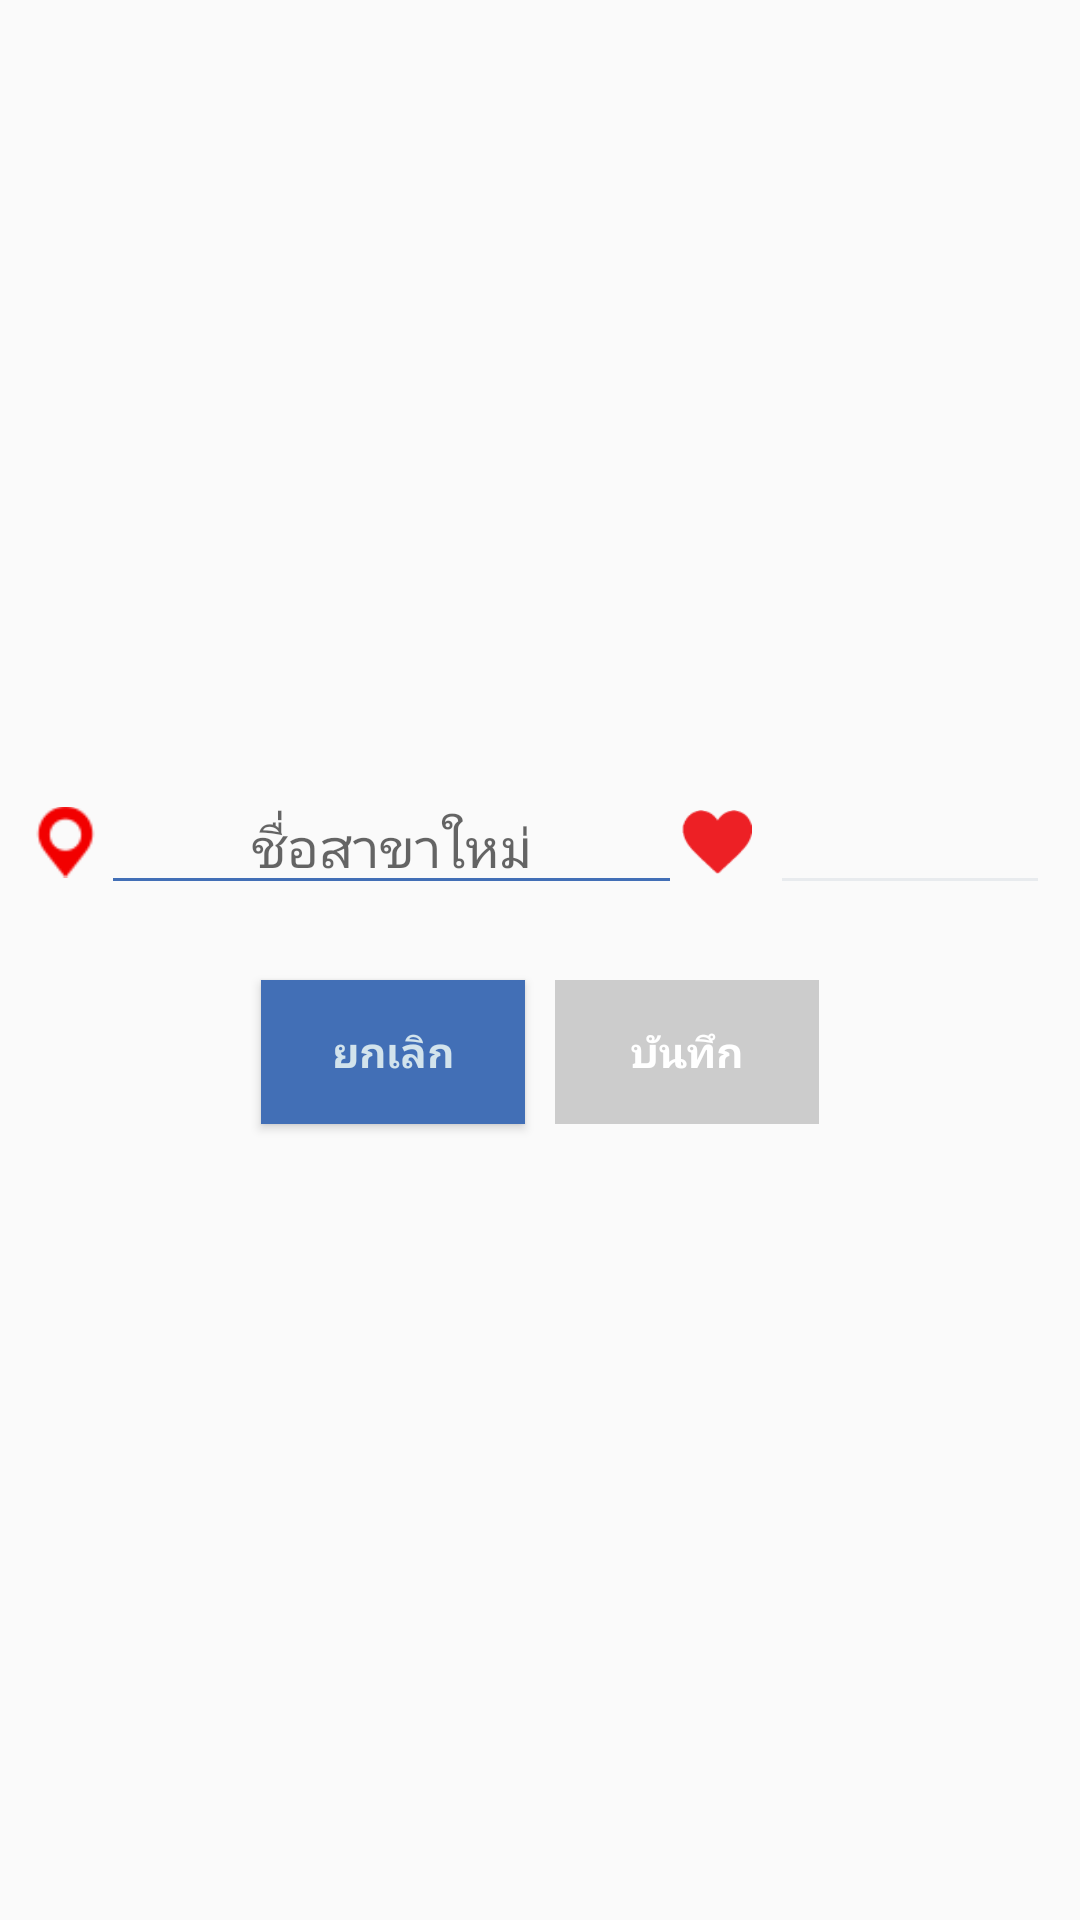

Icon click points for this 1080 x 1920 phone screenshot, format [x,y]:
heart: [717,842]
location simple: [65,842]
